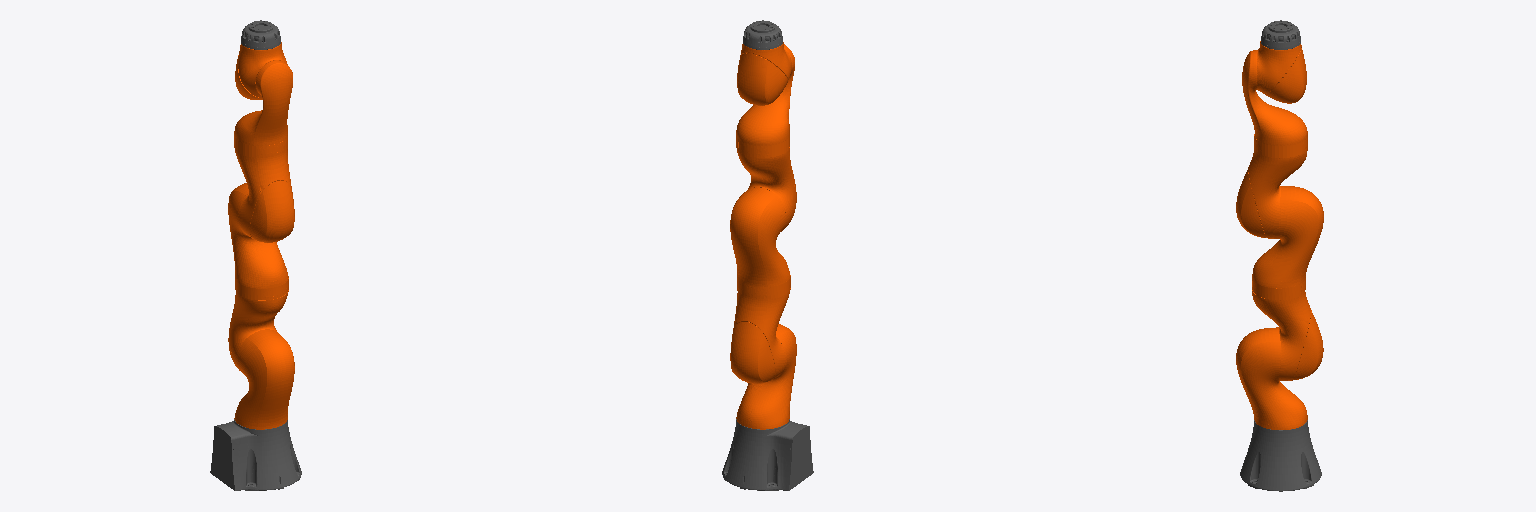
The robot description file, URDF, robot "iiwa7":
<?xml version="1.0" ?>
<!-- =================================================================================== -->
<!-- |    This document was autogenerated by xacro from iiwa7.urdf.xacro               | -->
<!-- |    EDITING THIS FILE BY HAND IS NOT RECOMMENDED                                 | -->
<!-- =================================================================================== -->
<robot name="iiwa7" xmlns:xacro="http://www.ros.org/wiki/xacro">
  <!-- Import Rviz colors -->
  <material name="Black">
    <color rgba="0.0 0.0 0.0 1.0"/>
  </material>
  <material name="Blue">
    <color rgba="0.0 0.0 0.8 1.0"/>
  </material>
  <material name="Green">
    <color rgba="0.0 0.8 0.0 1.0"/>
  </material>
  <material name="Grey">
    <color rgba="0.4 0.4 0.4 1.0"/>
  </material>
  <material name="Orange">
    <color rgba="1.0 0.423529411765 0.0392156862745 1.0"/>
  </material>
  <material name="Brown">
    <color rgba="0.870588235294 0.811764705882 0.764705882353 1.0"/>
  </material>
  <material name="Red">
    <color rgba="0.8 0.0 0.0 1.0"/>
  </material>
  <material name="White">
    <color rgba="1.0 1.0 1.0 1.0"/>
  </material>
  <!--Import the lbr iiwa macro -->
  <!-- Import all Gazebo-customization elements, including Gazebo colors -->
  <!-- Import Transmissions -->
  <!-- Include Utilities -->
  <!-- The following macros are adapted from the LWR 4 definitions of the RCPRG - https://github.com/RCPRG-ros-pkg/lwr_robot -->
  <!--Little helper macros to define the inertia matrix needed for links.-->
  <!--Cuboid-->
  <!--Cylinder: length is along the y-axis! -->
  <!-- some constants -->
  <!-- Fix to world just for testing -->
  <link name="world"/>
  <!--iiwa-->
  <!--joint between {parent} and link_0-->
  <joint name="world_iiwa_joint" type="fixed">
    <origin rpy="0 0 0" xyz="0 0 0.0"/>
    <parent link="world"/>
    <child link="iiwa_link_0"/>
  </joint>
  <link name="iiwa_link_0">
    <inertial>
      <origin rpy="0 0 0" xyz="-0.1 0 0.07"/>
      <mass value="5"/>
      <inertia ixx="0.05" ixy="0" ixz="0" iyy="0.06" iyz="0" izz="0.03"/>
    </inertial>
    <visual>
      <origin rpy="0 0 0" xyz="0 0 0"/>
      <geometry>
        <mesh filename="package://iiwa_description/meshes/iiwa7/visual/link_0.stl"/>
      </geometry>
      <material name="Grey"/>
    </visual>
    <collision>
      <origin rpy="0 0 0" xyz="0 0 0"/>
      <geometry>
        <mesh filename="package://iiwa_description/meshes/iiwa7/collision/link_0.stl"/>
      </geometry>
      <material name="Grey"/>
    </collision>
    <self_collision_checking>
      <origin rpy="0 0 0" xyz="0 0 0"/>
      <geometry>
        <capsule length="0.25" radius="0.15"/>
      </geometry>
    </self_collision_checking>
  </link>
  <!-- joint between link_0 and link_1 -->
  <joint name="iiwa_joint_1" type="revolute">
    <parent link="iiwa_link_0"/>
    <child link="iiwa_link_1"/>
    <origin rpy="0 0 0" xyz="0 0 0.15"/>
    <axis xyz="0 0 1"/>
    <limit effort="300" lower="-2.96705972839" upper="2.96705972839" velocity="10"/>
    <safety_controller k_position="100" k_velocity="2" soft_lower_limit="-2.93215314335" soft_upper_limit="2.93215314335"/>
    <dynamics damping="0.5"/>
  </joint>
  <link name="iiwa_link_1">
    <inertial>
      <origin rpy="0 0 0" xyz="0 -0.03 0.12"/>
      <mass value="4"/>
      <inertia ixx="0.1" ixy="0" ixz="0" iyy="0.09" iyz="0" izz="0.02"/>
    </inertial>
    <visual>
      <origin rpy="0 0 0" xyz="0 0 0.0075"/>
      <geometry>
        <mesh filename="package://iiwa_description/meshes/iiwa7/visual/link_1.stl"/>
      </geometry>
      <material name="Orange"/>
    </visual>
    <collision>
      <origin rpy="0 0 0" xyz="0 0 0.0075"/>
      <geometry>
        <mesh filename="package://iiwa_description/meshes/iiwa7/collision/link_1.stl"/>
      </geometry>
      <material name="Orange"/>
    </collision>
  </link>
  <joint name="iiwa_joint_2" type="revolute">
    <parent link="iiwa_link_1"/>
    <child link="iiwa_link_2"/>
    <origin rpy="1.57079632679   0 3.14159265359" xyz="0 0 0.19"/>
    <axis xyz="0 0 1"/>
    <limit effort="300" lower="-2.09439510239" upper="2.09439510239" velocity="10"/>
    <safety_controller k_position="100" k_velocity="2" soft_lower_limit="-2.05948851735" soft_upper_limit="2.05948851735"/>
    <dynamics damping="0.5"/>
  </joint>
  <link name="iiwa_link_2">
    <inertial>
      <origin rpy="0 0 0" xyz="0.0003 0.059 0.042"/>
      <mass value="4"/>
      <inertia ixx="0.05" ixy="0" ixz="0" iyy="0.018" iyz="0" izz="0.044"/>
    </inertial>
    <visual>
      <origin rpy="0 0 0" xyz="0 0 -0.0060"/>
      <geometry>
        <mesh filename="package://iiwa_description/meshes/iiwa7/visual/link_2.stl"/>
      </geometry>
      <material name="Orange"/>
    </visual>
    <collision>
      <origin rpy="0 0 0" xyz="0 0 -0.0060"/>
      <geometry>
        <mesh filename="package://iiwa_description/meshes/iiwa7/collision/link_2.stl"/>
      </geometry>
      <material name="Orange"/>
    </collision>
  </link>
  <joint name="iiwa_joint_3" type="revolute">
    <parent link="iiwa_link_2"/>
    <child link="iiwa_link_3"/>
    <origin rpy="1.57079632679 0 3.14159265359" xyz="0 0.21 0"/>
    <axis xyz="0 0 1"/>
    <limit effort="300" lower="-2.96705972839" upper="2.96705972839" velocity="10"/>
    <safety_controller k_position="100" k_velocity="2" soft_lower_limit="-2.05948851735" soft_upper_limit="2.05948851735"/>
    <dynamics damping="0.5"/>
  </joint>
  <link name="iiwa_link_3">
    <inertial>
      <origin rpy="0 0 0" xyz="0 0.03 0.13"/>
      <mass value="3"/>
      <inertia ixx="0.08" ixy="0" ixz="0" iyy="0.075" iyz="0" izz="0.01"/>
    </inertial>
    <visual>
      <origin rpy="0 0 0" xyz="0 -0.005 -0.026"/>
      <geometry>
        <mesh filename="package://iiwa_description/meshes/iiwa7/visual/link_3.stl"/>
      </geometry>
      <material name="Orange"/>
    </visual>
    <collision>
      <origin rpy="0 0 0" xyz="0 -0.005 -0.026"/>
      <geometry>
        <mesh filename="package://iiwa_description/meshes/iiwa7/collision/link_3.stl"/>
      </geometry>
      <material name="Orange"/>
    </collision>
  </link>
  <joint name="iiwa_joint_4" type="revolute">
    <parent link="iiwa_link_3"/>
    <child link="iiwa_link_4"/>
    <origin rpy="1.57079632679 0 0" xyz="0 0 0.19"/>
    <axis xyz="0 0 1"/>
    <limit effort="300" lower="-2.09439510239" upper="2.09439510239" velocity="10"/>
    <safety_controller k_position="100" k_velocity="2" soft_lower_limit="-2.05948851735" soft_upper_limit="2.05948851735"/>
    <dynamics damping="0.5"/>
  </joint>
  <link name="iiwa_link_4">
    <inertial>
      <origin rpy="0 0 0" xyz="0 0.067 0.034"/>
      <mass value="2.7"/>
      <inertia ixx="0.03" ixy="0" ixz="0" iyy="0.01" iyz="0" izz="0.029"/>
    </inertial>
    <visual>
      <origin rpy="0 0 0" xyz="0 0 0"/>
      <geometry>
        <mesh filename="package://iiwa_description/meshes/iiwa7/visual/link_4.stl"/>
      </geometry>
      <material name="Orange"/>
    </visual>
    <collision>
      <origin rpy="0 0 0" xyz="0 0 0"/>
      <geometry>
        <mesh filename="package://iiwa_description/meshes/iiwa7/collision/link_4.stl"/>
      </geometry>
      <material name="Orange"/>
    </collision>
  </link>
  <joint name="iiwa_joint_5" type="revolute">
    <parent link="iiwa_link_4"/>
    <child link="iiwa_link_5"/>
    <origin rpy="-1.57079632679 3.14159265359 0" xyz="0 0.21 0"/>
    <axis xyz="0 0 1"/>
    <limit effort="300" lower="-3.05432619099" upper="3.05432619099" velocity="10"/>
    <safety_controller k_position="100" k_velocity="2" soft_lower_limit="-3.01941960595" soft_upper_limit="3.01941960595"/>
    <dynamics damping="0.5"/>
  </joint>
  <link name="iiwa_link_5">
    <inertial>
      <origin rpy="0 0 0" xyz="0.0001 0.021 0.076"/>
      <mass value="1.7"/>
      <inertia ixx="0.02" ixy="0" ixz="0" iyy="0.018" iyz="0" izz="0.005"/>
    </inertial>
    <visual>
      <origin rpy="0 0 0" xyz="0 0 -0.026"/>
      <geometry>
        <mesh filename="package://iiwa_description/meshes/iiwa7/visual/link_5.stl"/>
      </geometry>
      <material name="Orange"/>
    </visual>
    <collision>
      <origin rpy="0 0 0" xyz="0 0 -0.026"/>
      <geometry>
        <mesh filename="package://iiwa_description/meshes/iiwa7/collision/link_5.stl"/>
      </geometry>
      <material name="Orange"/>
    </collision>
  </link>
  <joint name="iiwa_joint_6" type="revolute">
    <parent link="iiwa_link_5"/>
    <child link="iiwa_link_6"/>
    <origin rpy="1.57079632679 0 0" xyz="0 0.06070 0.19"/>
    <axis xyz="0 0 1"/>
    <limit effort="300" lower="-2.09439510239" upper="2.09439510239" velocity="10"/>
    <safety_controller k_position="100" k_velocity="2" soft_lower_limit="-2.05948851735" soft_upper_limit="2.05948851735"/>
    <dynamics damping="0.5"/>
  </joint>
  <link name="iiwa_link_6">
    <inertial>
      <origin rpy="0 0 0" xyz="0 0.0006 0.0004"/>
      <mass value="1.8"/>
      <inertia ixx="0.005" ixy="0" ixz="0" iyy="0.0036" iyz="0" izz="0.0047"/>
    </inertial>
    <visual>
      <origin rpy="0 0 0" xyz="0 0 0"/>
      <geometry>
        <mesh filename="package://iiwa_description/meshes/iiwa7/visual/link_6.stl"/>
      </geometry>
      <material name="Orange"/>
    </visual>
    <collision>
      <origin rpy="0 0 0" xyz="0 0 0"/>
      <geometry>
        <mesh filename="package://iiwa_description/meshes/iiwa7/collision/link_6.stl"/>
      </geometry>
      <material name="Orange"/>
    </collision>
  </link>
  <joint name="iiwa_joint_7" type="revolute">
    <parent link="iiwa_link_6"/>
    <child link="iiwa_link_7"/>
    <origin rpy="-1.57079632679 3.14159265359 0" xyz="0 0.081 0.06070"/>
    <axis xyz="0 0 1"/>
    <limit effort="300" lower="-3.05432619099" upper="3.05432619099" velocity="10"/>
    <safety_controller k_position="100" k_velocity="2" soft_lower_limit="-3.01941960595" soft_upper_limit="3.01941960595"/>
    <dynamics damping="0.5"/>
  </joint>
  <link name="iiwa_link_7">
    <inertial>
      <origin rpy="0 0 0" xyz="0 0 0.02"/>
      <mass value="0.3"/>
      <inertia ixx="0.001" ixy="0" ixz="0" iyy="0.001" iyz="0" izz="0.001"/>
    </inertial>
    <visual>
      <origin rpy="0 0 0" xyz="0 0 -0.0005"/>
      <geometry>
        <mesh filename="package://iiwa_description/meshes/iiwa7/visual/link_7_basic.stl"/>
      </geometry>
      <material name="Grey"/>
    </visual>
    <collision>
      <origin rpy="0 0 0" xyz="0 0 -0.0005"/>
      <geometry>
        <mesh filename="package://iiwa_description/meshes/iiwa7/collision/link_7_basic.stl"/>
      </geometry>
      <material name="Grey"/>
    </collision>
  </link>
  <joint name="iiwa_joint_ee" type="fixed">
    <parent link="iiwa_link_7"/>
    <child link="iiwa_link_ee_kuka"/>
    <origin rpy="3.14159265359 3.14159265359 3.14159265359" xyz="0 0 0.045"/>
    <axis xyz="0 0 1"/>
  </joint>
  <link name="iiwa_link_ee_kuka">
    </link>
  <joint name="tool0_joint" type="fixed">
    <parent link="iiwa_link_7"/>
    <child link="iiwa_link_ee"/>
    <origin rpy="0 -1.57079632679 0" xyz="0 0 0.045"/>
  </joint>
  <link name="iiwa_link_ee">
    </link>
  <!--Extensions -->
  <!-- Load Gazebo lib and set the robot namespace -->
  <gazebo>
    <plugin filename="libgazebo_ros_control.so" name="gazebo_ros_controller">
      <robotNamespace>/iiwa</robotNamespace>
    </plugin>
  </gazebo>
  <!-- Link0 -->
  <gazebo reference="iiwa_link_0">
    <material>Gazebo/Grey</material>
    <mu1>0.2</mu1>
    <mu2>0.2</mu2>
  </gazebo>
  <!-- Link1 -->
  <gazebo reference="iiwa_link_1">
    <material>Gazebo/Orange</material>
    <mu1>0.2</mu1>
    <mu2>0.2</mu2>
  </gazebo>
  <!-- Link2 -->
  <gazebo reference="iiwa_link_2">
    <material>Gazebo/Orange</material>
    <mu1>0.2</mu1>
    <mu2>0.2</mu2>
  </gazebo>
  <!-- Link3 -->
  <gazebo reference="iiwa_link_3">
    <material>Gazebo/Orange</material>
    <mu1>0.2</mu1>
    <mu2>0.2</mu2>
  </gazebo>
  <!-- Link4 -->
  <gazebo reference="iiwa_link_4">
    <material>Gazebo/Orange</material>
    <mu1>0.2</mu1>
    <mu2>0.2</mu2>
  </gazebo>
  <!-- Link5 -->
  <gazebo reference="iiwa_link_5">
    <material>Gazebo/Orange</material>
    <mu1>0.2</mu1>
    <mu2>0.2</mu2>
  </gazebo>
  <!-- Link6 -->
  <gazebo reference="iiwa_link_6">
    <material>Gazebo/Orange</material>
    <mu1>0.2</mu1>
    <mu2>0.2</mu2>
  </gazebo>
  <!-- Link7 -->
  <gazebo reference="iiwa_link_7">
    <material>Gazebo/Grey</material>
    <mu1>0.2</mu1>
    <mu2>0.2</mu2>
  </gazebo>
  <transmission name="iiwa_tran_1">
    <type>transmission_interface/SimpleTransmission</type>
    <joint name="iiwa_joint_1">
      <hardwareInterface>PositionJointInterface</hardwareInterface>
    </joint>
    <actuator name="iiwa_motor_1">
      <hardwareInterface>PositionJointInterface</hardwareInterface>
      <mechanicalReduction>1</mechanicalReduction>
    </actuator>
  </transmission>
  <transmission name="iiwa_tran_2">
    <type>transmission_interface/SimpleTransmission</type>
    <joint name="iiwa_joint_2">
      <hardwareInterface>PositionJointInterface</hardwareInterface>
    </joint>
    <actuator name="iiwa_motor_2">
      <hardwareInterface>PositionJointInterface</hardwareInterface>
      <mechanicalReduction>1</mechanicalReduction>
    </actuator>
  </transmission>
  <transmission name="iiwa_tran_3">
    <type>transmission_interface/SimpleTransmission</type>
    <joint name="iiwa_joint_3">
      <hardwareInterface>PositionJointInterface</hardwareInterface>
    </joint>
    <actuator name="iiwa_motor_3">
      <hardwareInterface>PositionJointInterface</hardwareInterface>
      <mechanicalReduction>1</mechanicalReduction>
    </actuator>
  </transmission>
  <transmission name="iiwa_tran_4">
    <type>transmission_interface/SimpleTransmission</type>
    <joint name="iiwa_joint_4">
      <hardwareInterface>PositionJointInterface</hardwareInterface>
    </joint>
    <actuator name="iiwa_motor_4">
      <hardwareInterface>PositionJointInterface</hardwareInterface>
      <mechanicalReduction>1</mechanicalReduction>
    </actuator>
  </transmission>
  <transmission name="iiwa_tran_5">
    <type>transmission_interface/SimpleTransmission</type>
    <joint name="iiwa_joint_5">
      <hardwareInterface>PositionJointInterface</hardwareInterface>
    </joint>
    <actuator name="iiwa_motor_5">
      <hardwareInterface>PositionJointInterface</hardwareInterface>
      <mechanicalReduction>1</mechanicalReduction>
    </actuator>
  </transmission>
  <transmission name="iiwa_tran_6">
    <type>transmission_interface/SimpleTransmission</type>
    <joint name="iiwa_joint_6">
      <hardwareInterface>PositionJointInterface</hardwareInterface>
    </joint>
    <actuator name="iiwa_motor_6">
      <hardwareInterface>PositionJointInterface</hardwareInterface>
      <mechanicalReduction>1</mechanicalReduction>
    </actuator>
  </transmission>
  <transmission name="iiwa_tran_7">
    <type>transmission_interface/SimpleTransmission</type>
    <joint name="iiwa_joint_7">
      <hardwareInterface>PositionJointInterface</hardwareInterface>
    </joint>
    <actuator name="iiwa_motor_7">
      <hardwareInterface>PositionJointInterface</hardwareInterface>
      <mechanicalReduction>1</mechanicalReduction>
    </actuator>
  </transmission>
</robot>

--- What the picture shows (computed from the rendered views, not written in the file) ---
The picture shows the robot from 3 angles, left to right: view 1: azimuth 30°, elevation 25°; view 2: azimuth 150°, elevation 25°; view 3: azimuth 270°, elevation 25°; orthographic projection.
Model iiwa7 with 11 links and 10 joints (7 revolute, 3 fixed), rooted at world, posed all joints at 0.
Visible links, largest first — view 1: iiwa_link_0, iiwa_link_1, iiwa_link_4, iiwa_link_5, iiwa_link_3, iiwa_link_2, iiwa_link_6, iiwa_link_7; view 2: iiwa_link_3, iiwa_link_0, iiwa_link_2, iiwa_link_1, iiwa_link_5, iiwa_link_6, iiwa_link_4, iiwa_link_7; view 3: iiwa_link_3, iiwa_link_1, iiwa_link_0, iiwa_link_4, iiwa_link_2, iiwa_link_5, iiwa_link_6, iiwa_link_7.
Link boxes in pixels (x1,y1,x2,y2): iiwa_link_0: [210, 419, 301, 490]; iiwa_link_1: [234, 329, 294, 429]; iiwa_link_4: [234, 147, 294, 242]; iiwa_link_5: [234, 60, 292, 157]; iiwa_link_3: [228, 183, 288, 299]; iiwa_link_2: [228, 290, 288, 373]; iiwa_link_6: [235, 42, 287, 99]; iiwa_link_7: [241, 20, 280, 49]; iiwa_link_3: [730, 187, 790, 298]; iiwa_link_0: [722, 419, 813, 490]; iiwa_link_2: [730, 288, 790, 383]; iiwa_link_1: [736, 324, 796, 429]; iiwa_link_5: [736, 44, 794, 157]; iiwa_link_6: [737, 42, 791, 105]; iiwa_link_4: [737, 147, 796, 231]; iiwa_link_7: [743, 20, 782, 49]; iiwa_link_3: [1252, 186, 1323, 299]; iiwa_link_1: [1236, 327, 1307, 429]; iiwa_link_0: [1240, 420, 1321, 491]; iiwa_link_4: [1236, 148, 1307, 238]; iiwa_link_2: [1252, 290, 1323, 380]; iiwa_link_5: [1242, 50, 1307, 157]; iiwa_link_6: [1257, 41, 1306, 103]; iiwa_link_7: [1261, 20, 1300, 49].
Bounding box of the posed robot: 0.2169 × 0.2242 × 1.27 m (x, y, z).
8 mesh visuals loaded from 8 distinct referenced files (8 binary STL).